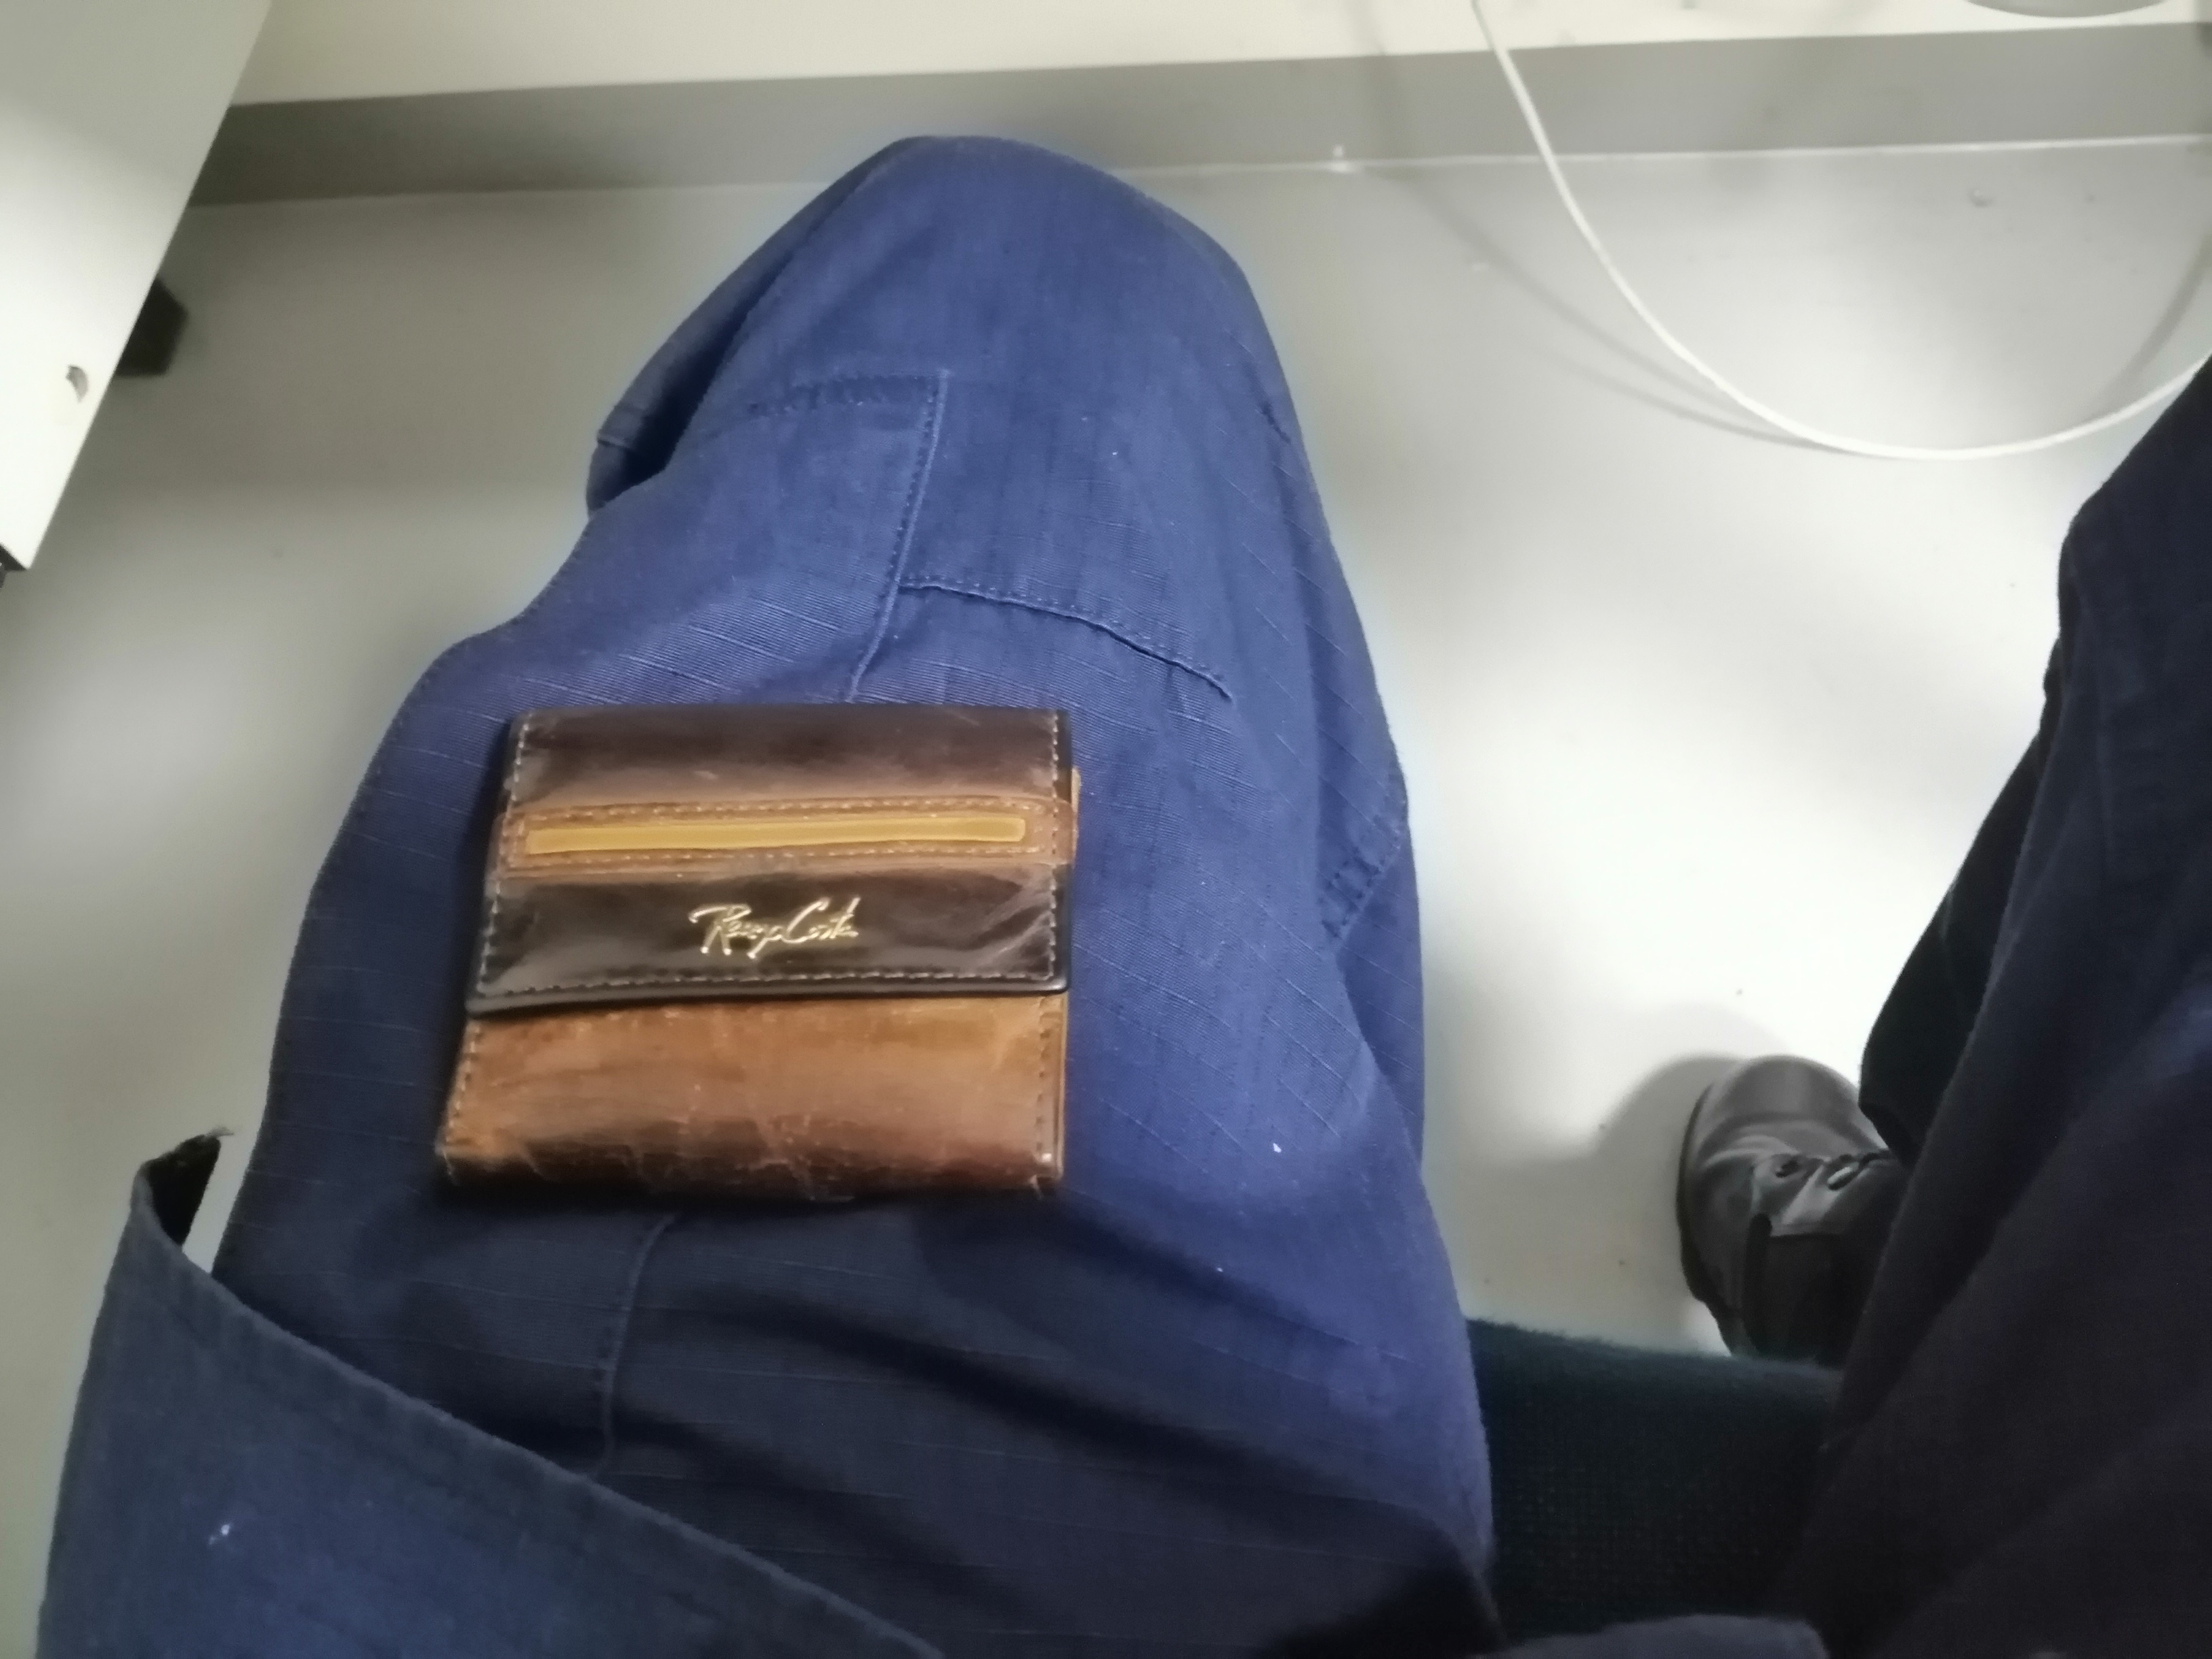monedero: (411, 678, 1125, 1230)
